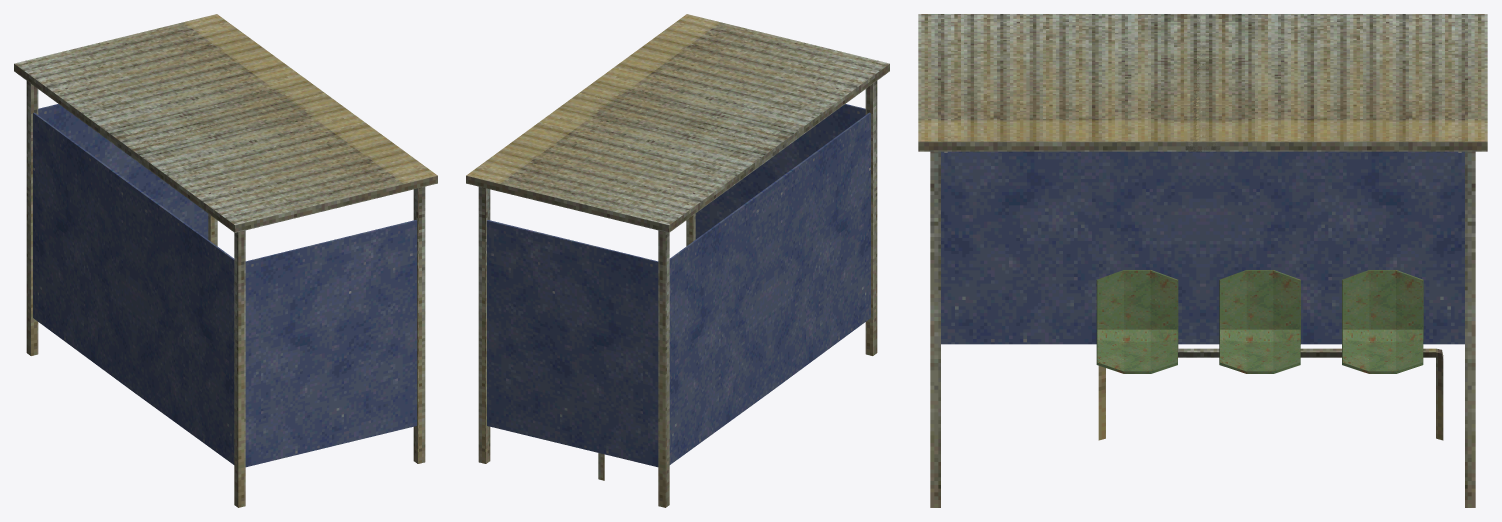
The model's file is busstop_clean_seats.glb.
3 views of the same model, side by side, from view 1: azimuth 30°, elevation 25°; view 2: azimuth 150°, elevation 25°; view 3: azimuth 270°, elevation 25° (orthographic). The views are drawn at different scales.
Parts seen in each view (by area): view 1: busstop_clean_seats; view 2: busstop_clean_seats; view 3: busstop_clean_seats.
Boxes of the visible parts, x1=… form: busstop_clean_seats: x1=14, y1=14, x2=437, y2=507; busstop_clean_seats: x1=466, y1=14, x2=889, y2=507; busstop_clean_seats: x1=918, y1=14, x2=1487, y2=507.
Size of the model in its own units: 2.26 by 3.07 by 4.26.
Materials: 1 (1 with a texture image).
